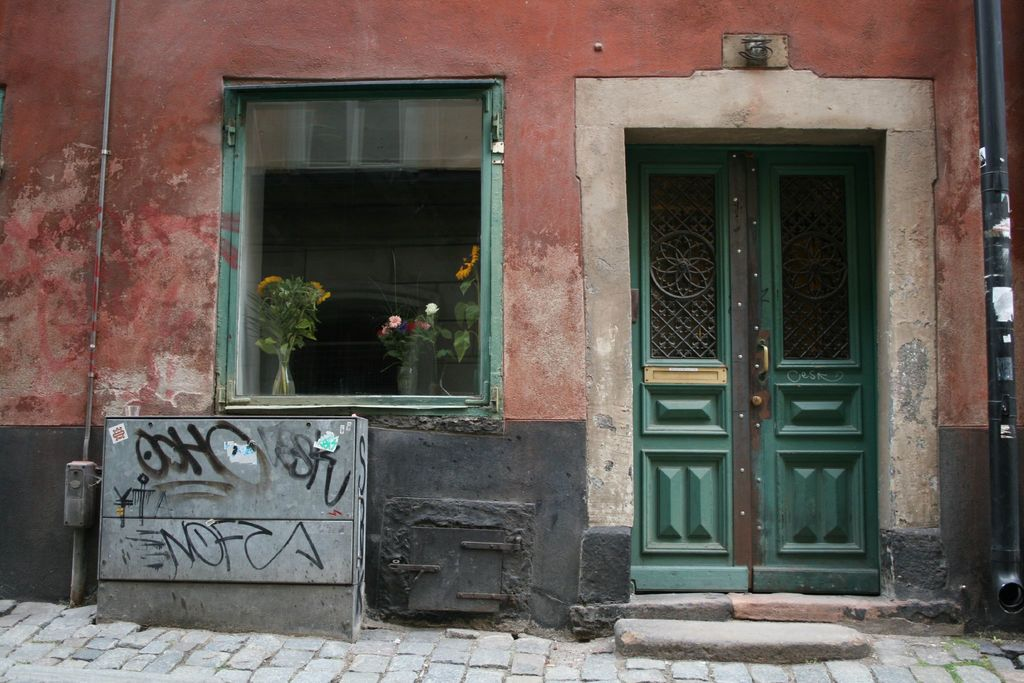door: (755, 167, 872, 584), (649, 167, 753, 576)
handle: (758, 339, 776, 378), (750, 388, 764, 413)
